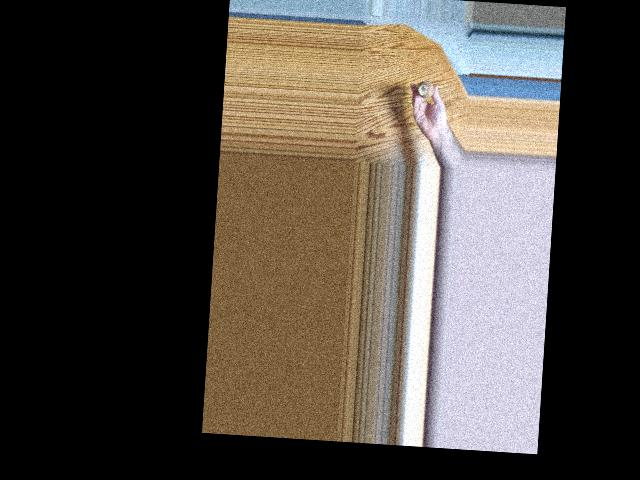sweet_potato: (417, 80, 436, 96)
